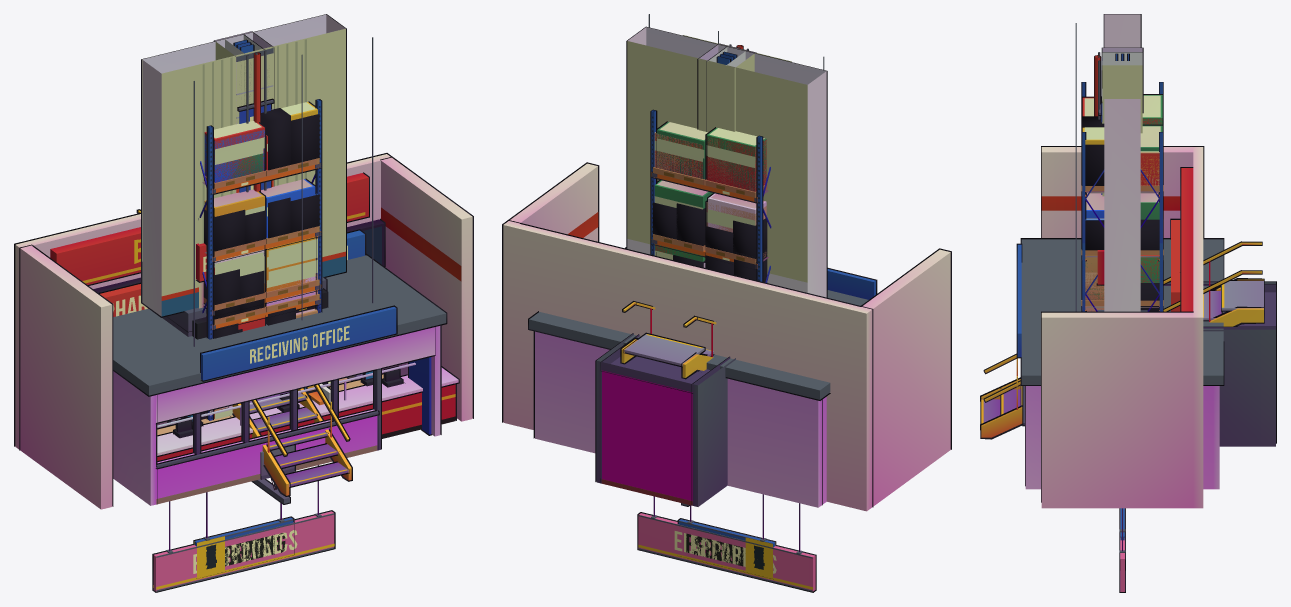
File: fps-kit-megastore.glb
The picture shows the model from 3 angles, left to right: view 1: azimuth 30°, elevation 25°; view 2: azimuth 150°, elevation 25°; view 3: azimuth 270°, elevation 25°; orthographic projection. The views are drawn at different scales.
Parts seen in each view (by area): view 1: KIT_MEGASTORE_Landmark_FoodCourt, KIT_MEGASTORE_Landmark_Office, KIT_MEGASTORE_GateFrame, KIT_MEGASTORE_Tall_A, KIT_MEGASTORE_Tall_EndR, KIT_MEGASTORE_Tall_B, KIT_MEGASTORE_WK_Dock, KIT_MEGASTORE_Stair, KIT_MEGASTORE_Dept_Apparel, KIT_MEGASTORE_Pharmacy, KIT_MEGASTORE_Rack_EndR, KIT_MEGASTORE_Rack_A (+6 smaller); view 2: KIT_MEGASTORE_Landmark_FoodCourt, KIT_MEGASTORE_GateFrame, KIT_MEGASTORE_Landmark_Office, KIT_MEGASTORE_WK_Dock, KIT_MEGASTORE_Tall_A, KIT_MEGASTORE_Tall_EndR, KIT_MEGASTORE_Dept_Apparel, KIT_MEGASTORE_Tall_B, KIT_MEGASTORE_Tall_EndL, KIT_MEGASTORE_CornerK, KIT_MEGASTORE_Stair, KIT_MEGASTORE_Aisle_1 (+2 smaller); view 3: KIT_MEGASTORE_Landmark_FoodCourt, KIT_MEGASTORE_Landmark_Office, KIT_MEGASTORE_GateFrame, KIT_MEGASTORE_WK_Dock, KIT_MEGASTORE_Stair, KIT_MEGASTORE_Tall_A, KIT_MEGASTORE_Tall_EndR, KIT_MEGASTORE_Tall_B, KIT_MEGASTORE_CornerK, KIT_MEGASTORE_Pharmacy, KIT_MEGASTORE_Rack_A, KIT_MEGASTORE_Tall_EndL (+4 smaller).
Boxes of the visible parts, x1,y1,x2,y2 form: KIT_MEGASTORE_Landmark_FoodCourt: (14, 153, 473, 509); KIT_MEGASTORE_Landmark_Office: (113, 253, 447, 505); KIT_MEGASTORE_GateFrame: (141, 14, 346, 418); KIT_MEGASTORE_Tall_A: (203, 108, 321, 420); KIT_MEGASTORE_Tall_EndR: (202, 99, 322, 419); KIT_MEGASTORE_Tall_B: (204, 101, 319, 418); KIT_MEGASTORE_WK_Dock: (192, 38, 328, 419); KIT_MEGASTORE_Stair: (136, 209, 352, 496); KIT_MEGASTORE_Dept_Apparel: (152, 465, 335, 592); KIT_MEGASTORE_Pharmacy: (99, 37, 405, 435); KIT_MEGASTORE_Rack_EndR: (214, 217, 322, 338); KIT_MEGASTORE_Rack_A: (202, 232, 321, 420); KIT_MEGASTORE_Landmark_FoodCourt: (502, 162, 951, 511); KIT_MEGASTORE_GateFrame: (626, 26, 827, 297); KIT_MEGASTORE_Landmark_Office: (528, 247, 877, 507); KIT_MEGASTORE_WK_Dock: (595, 35, 791, 506); KIT_MEGASTORE_Tall_A: (651, 133, 768, 281); KIT_MEGASTORE_Tall_EndR: (650, 109, 768, 267); KIT_MEGASTORE_Dept_Apparel: (637, 496, 816, 592); KIT_MEGASTORE_Tall_B: (653, 127, 767, 209); KIT_MEGASTORE_Tall_EndL: (654, 127, 771, 281); KIT_MEGASTORE_CornerK: (697, 43, 756, 132); KIT_MEGASTORE_Stair: (620, 301, 716, 379); KIT_MEGASTORE_Aisle_1: (677, 494, 776, 579); KIT_MEGASTORE_Landmark_FoodCourt: (1041, 146, 1204, 508); KIT_MEGASTORE_Landmark_Office: (1016, 238, 1224, 489); KIT_MEGASTORE_GateFrame: (1096, 14, 1147, 311); KIT_MEGASTORE_WK_Dock: (1163, 281, 1276, 446); KIT_MEGASTORE_Stair: (980, 241, 1264, 439); KIT_MEGASTORE_Tall_A: (1081, 82, 1163, 311); KIT_MEGASTORE_Tall_EndR: (1081, 96, 1163, 310); KIT_MEGASTORE_Tall_B: (1081, 94, 1163, 250); KIT_MEGASTORE_CornerK: (1102, 47, 1143, 196); KIT_MEGASTORE_Pharmacy: (1075, 23, 1180, 311); KIT_MEGASTORE_Rack_A: (1081, 255, 1163, 311); KIT_MEGASTORE_Tall_EndL: (1085, 94, 1162, 311).
Bounding box in the file's own units: 10.04 × 13.52 × 7.35.
1 material, 1 textured.
